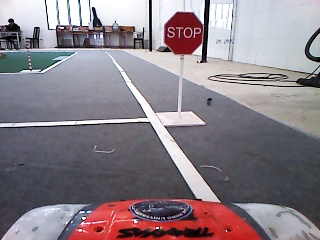stop: (161, 8, 205, 57)
